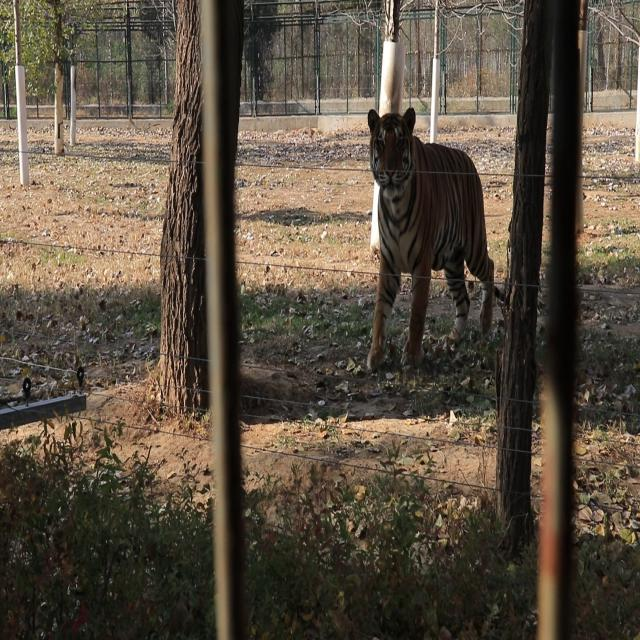Tiger: (360, 97, 503, 376)
